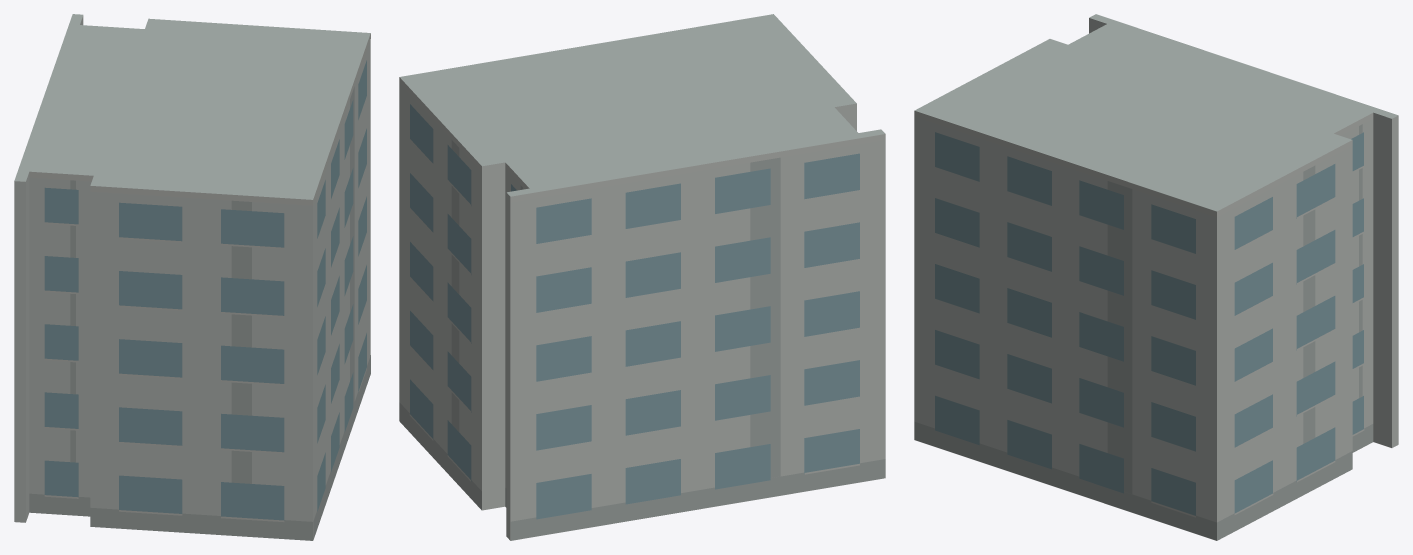
File: survey-upis-32848719.glb
3 renders of one model, left to right at view 1: azimuth 30°, elevation 25°; view 2: azimuth 150°, elevation 25°; view 3: azimuth 270°, elevation 25°, orthographic. The views are drawn at different scales.
Parts seen in each view (by area): view 1: survey-upis-32848719.tmp; view 2: survey-upis-32848719.tmp; view 3: survey-upis-32848719.tmp.
Part boxes in pixels (<box>): survey-upis-32848719.tmp: <box>14,14,370,540</box>; survey-upis-32848719.tmp: <box>399,14,885,540</box>; survey-upis-32848719.tmp: <box>914,14,1398,540</box>.
Size of the model in its own units: 17.95 by 13.95 by 18.59.
